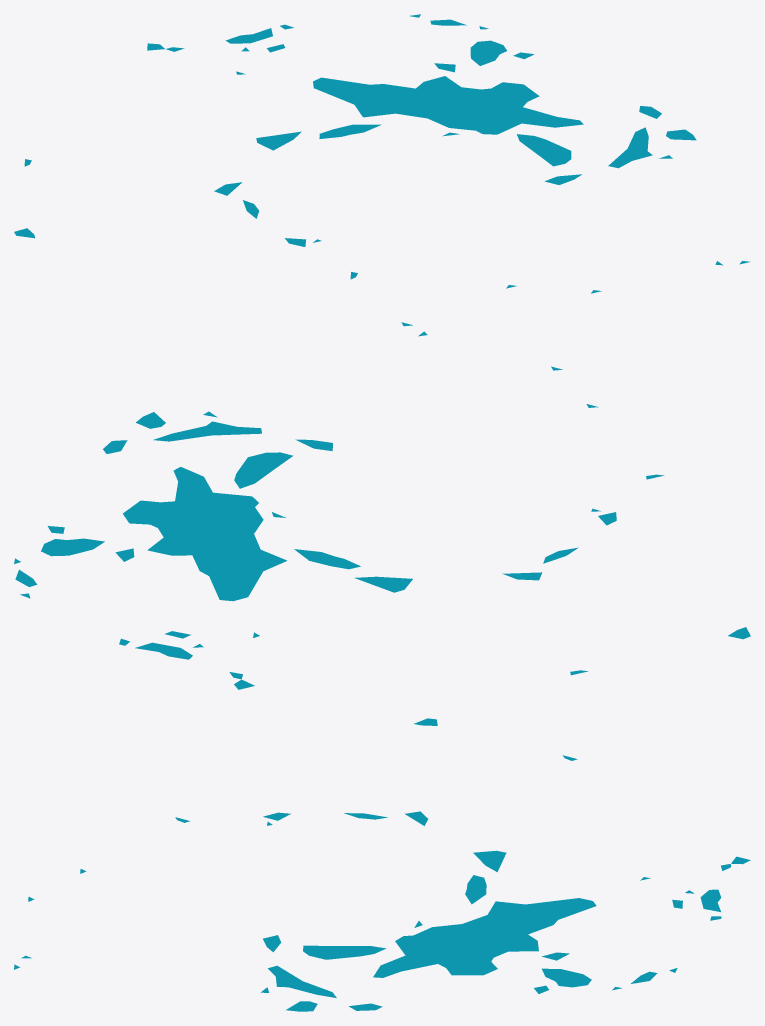
The model's file is misc_galaxymap_borders.dae.
The picture shows the model from 3 angles, top to bottom: view 1: azimuth 30°, elevation 25°; view 2: azimuth 150°, elevation 25°; view 3: azimuth 270°, elevation 25°; orthographic projection. The views are drawn at different scales.
Parts seen in each view (by area): view 1: MULT[GalaxymapBorders]_LOD[0]; view 2: MULT[GalaxymapBorders]_LOD[0]; view 3: MULT[GalaxymapBorders]_LOD[0].
Boxes of the visible parts, <box> form: MULT[GalaxymapBorders]_LOD[0]: <box>14,14,750,293</box>; MULT[GalaxymapBorders]_LOD[0]: <box>14,322,750,689</box>; MULT[GalaxymapBorders]_LOD[0]: <box>14,718,750,1011</box>.
Size of the model in its own units: 2718 by 0.000349 by 2886.
